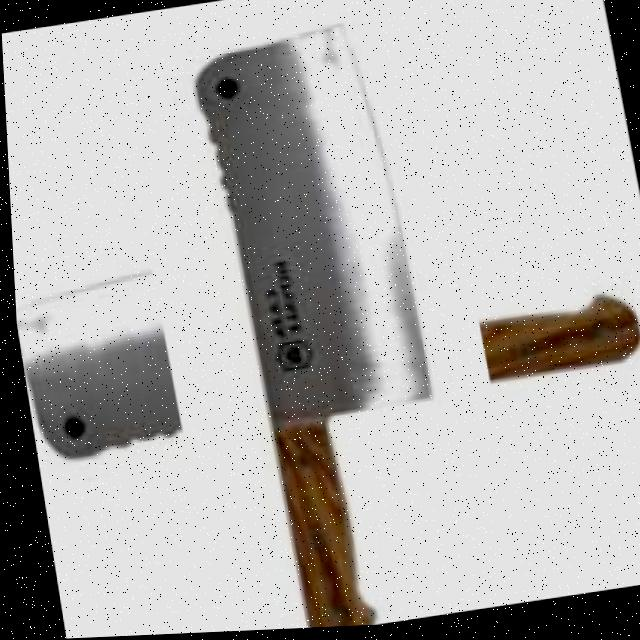knife: (180, 15, 462, 634)
